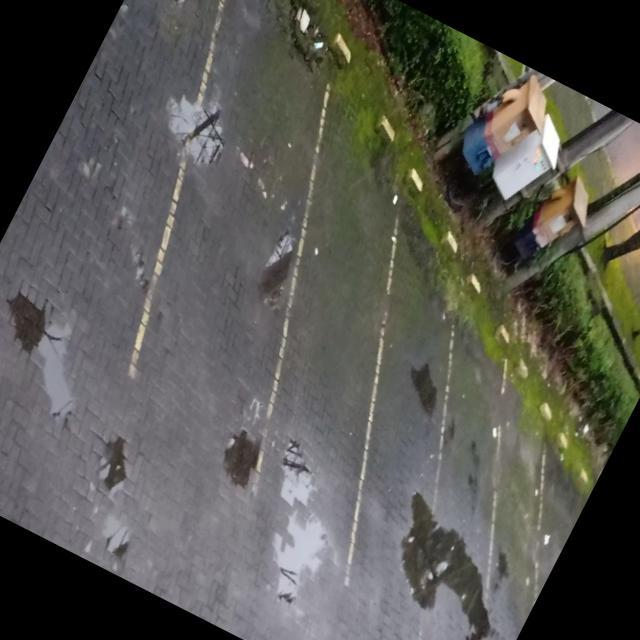empty: (77, 0, 399, 414), (184, 107, 478, 526), (290, 242, 513, 571), (362, 320, 562, 608)
